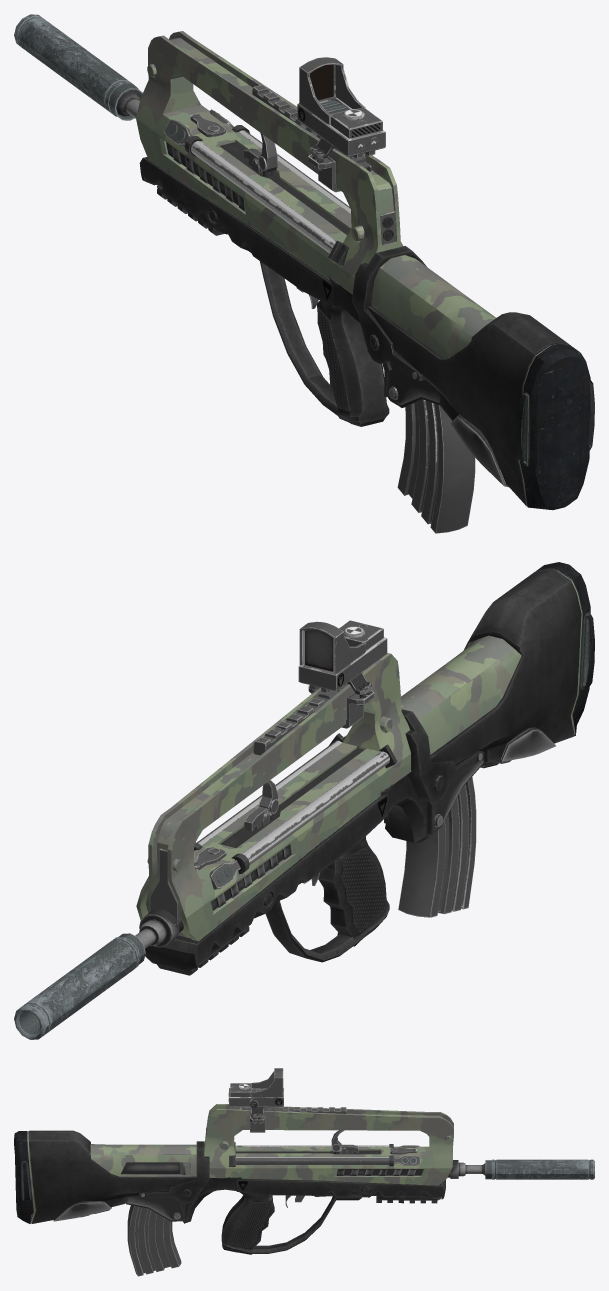
File: famas.glb
The picture shows the model from 3 angles, top to bottom: view 1: azimuth 30°, elevation 25°; view 2: azimuth 150°, elevation 25°; view 3: azimuth 270°, elevation 25°; orthographic projection. The views are drawn at different scales.
Visible parts, largest first — view 1: Cube.014; view 2: Cube.014; view 3: Cube.014.
Boxes of the visible parts, x1=… form: Cube.014: x1=14, y1=14, x2=594, y2=533; Cube.014: x1=14, y1=562, x2=594, y2=1039; Cube.014: x1=14, y1=1068, x2=594, y2=1276.
Bounding box in the file's own units: 1.57 × 7.62 × 19.89.
Materials: 2 (2 with a texture image).
